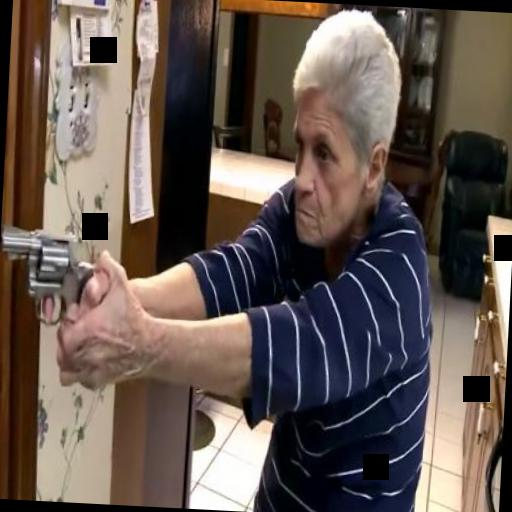Handgun: (0, 216, 125, 353)
